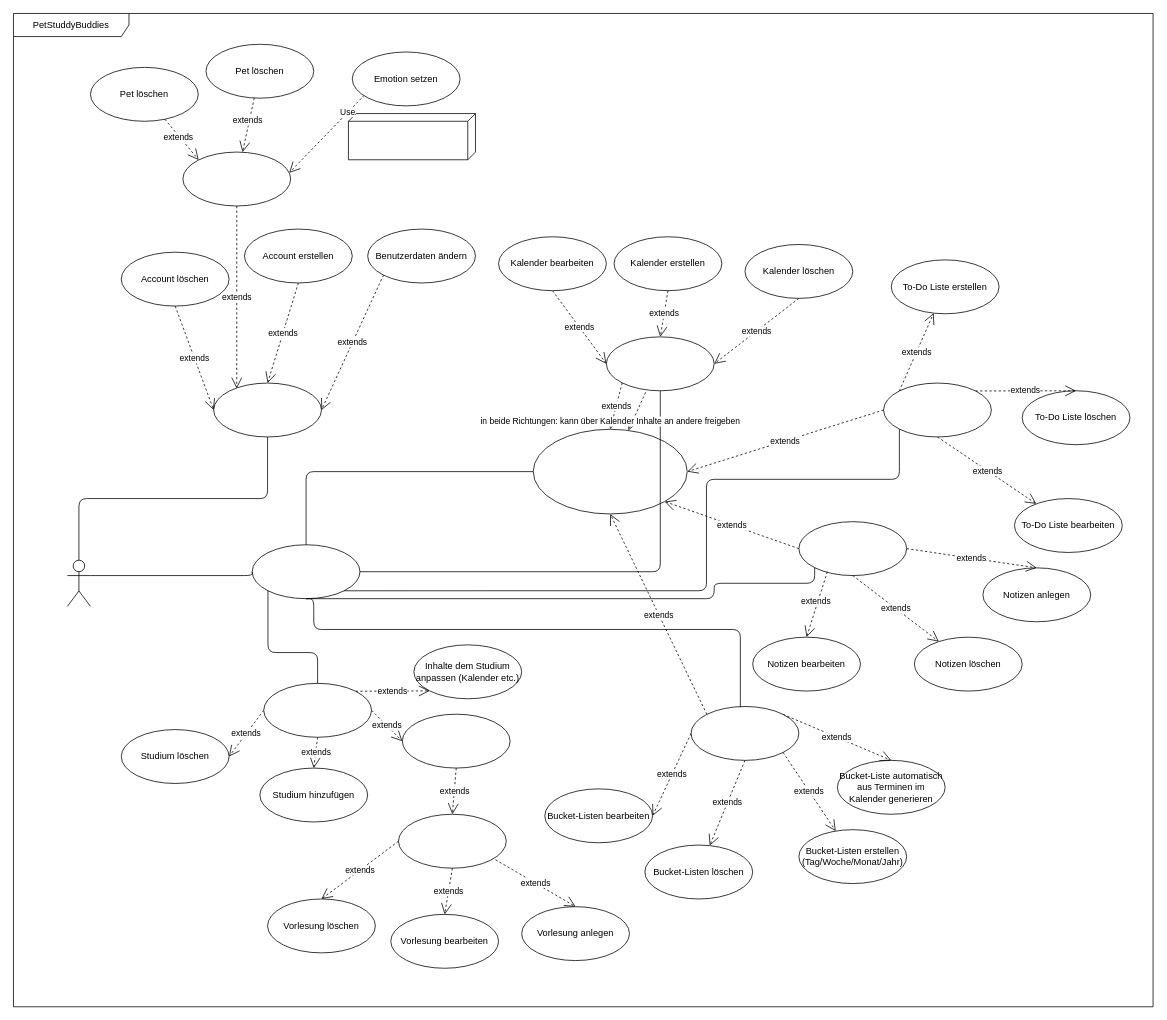
Some shapes in this 1167 by 1020 pixel diagram are drawn without their labels. Each missing label, with the centre of its shape:
"Account verwalten" goes at point (267, 409).
"Bucket-Listen verwalten" goes at point (744, 733).
"in Account einloggen" goes at point (305, 571).
"Inhalte an andere Nutzer/User teilen/freigeben/zuteilen" goes at point (609, 471).
"Kalender verwalten" goes at point (660, 363).
"Notizen verwalten" goes at point (852, 548).
"Pet erstellen" goes at point (236, 178).
"Studium bearbeiten" goes at point (456, 740).
"Studium verwalten" goes at point (317, 710).
"To-Do Liste verwalten" goes at point (937, 409).
"User" goes at point (78, 582).
"Vorlesungen verwalten" goes at point (452, 841).
"Ziele erreicht? -->Bedigung" goes at point (411, 136).
